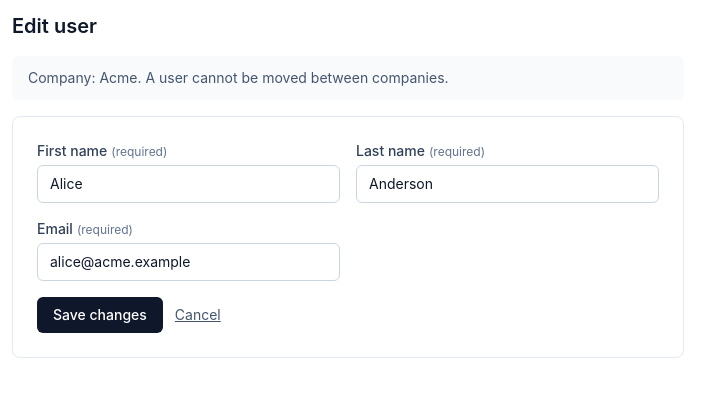
Test case: AdminUserEditPage › renders backend validation errors
Expected: the field labelled "First name(required)" is shown, [37,165,340,203]
What coordinates should you click on to do the following:
click the button "Save changes"
I would click on:
 (100, 315)
Its box is [37,297,163,333].
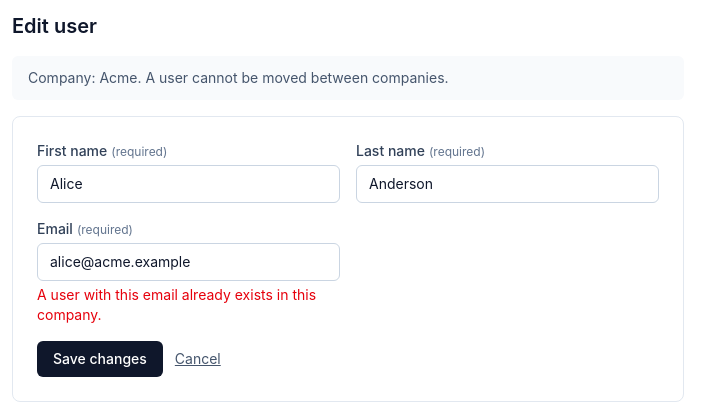
Now the text "A user with this email already exists in this company." is shown, box [37,285,340,325]
